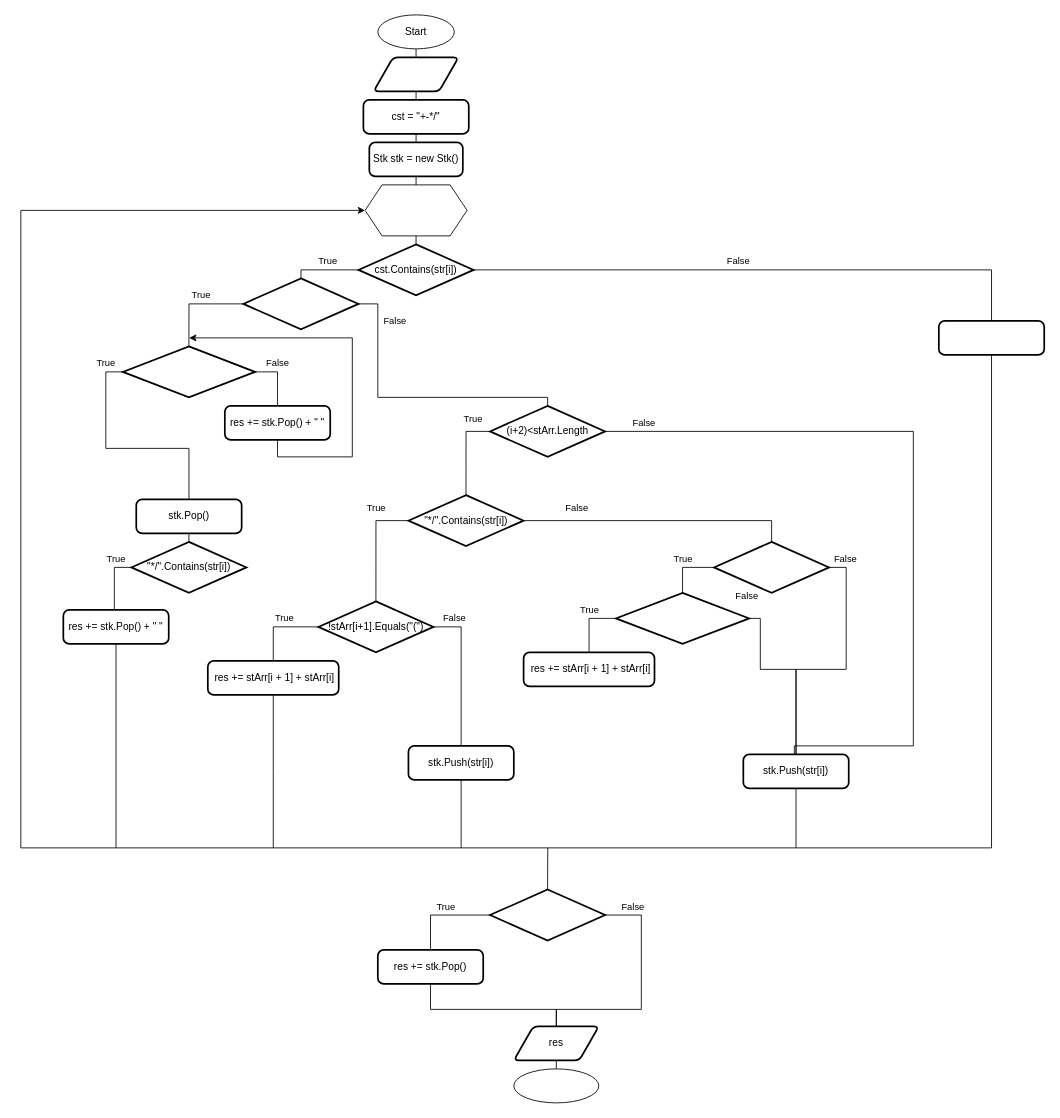
Image size: 1060x1118. Some labels were removed from this diagram. Here are the shapes that lost their labels. From the top down, the centre of each, then its label:
(415,74): str[]
(415,210): i=0;i<str.Length;i++
(300,303): str[i].Equals(")")
(991,337): res+=str[i]+" "
(188,371): !stk.Peek().Equals("(")
(771,567): "+-".Contains(str[i])
(682,618): !"*/(".Contains(str[i+1])
(547,914): !stk.IsEmpty()
(556,1085): End
